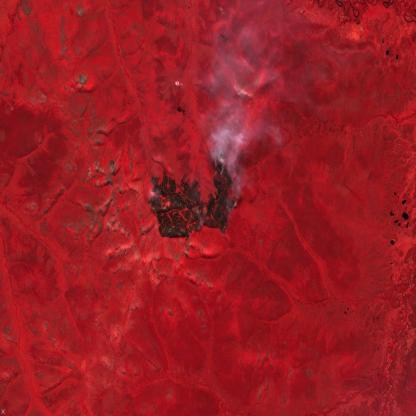fire: (147, 160, 238, 241)
